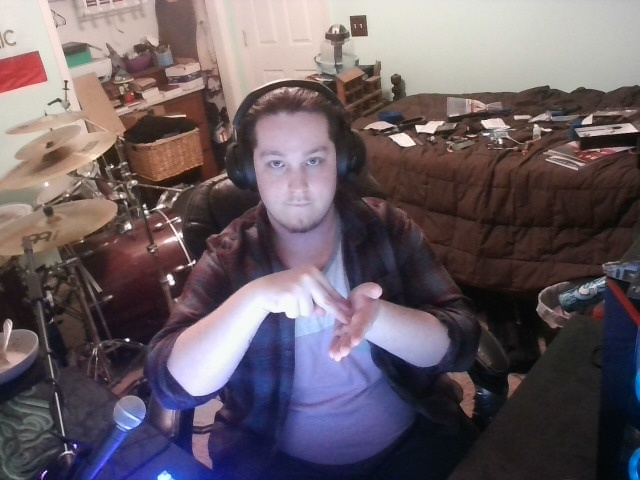fork: (260, 262, 390, 370)
